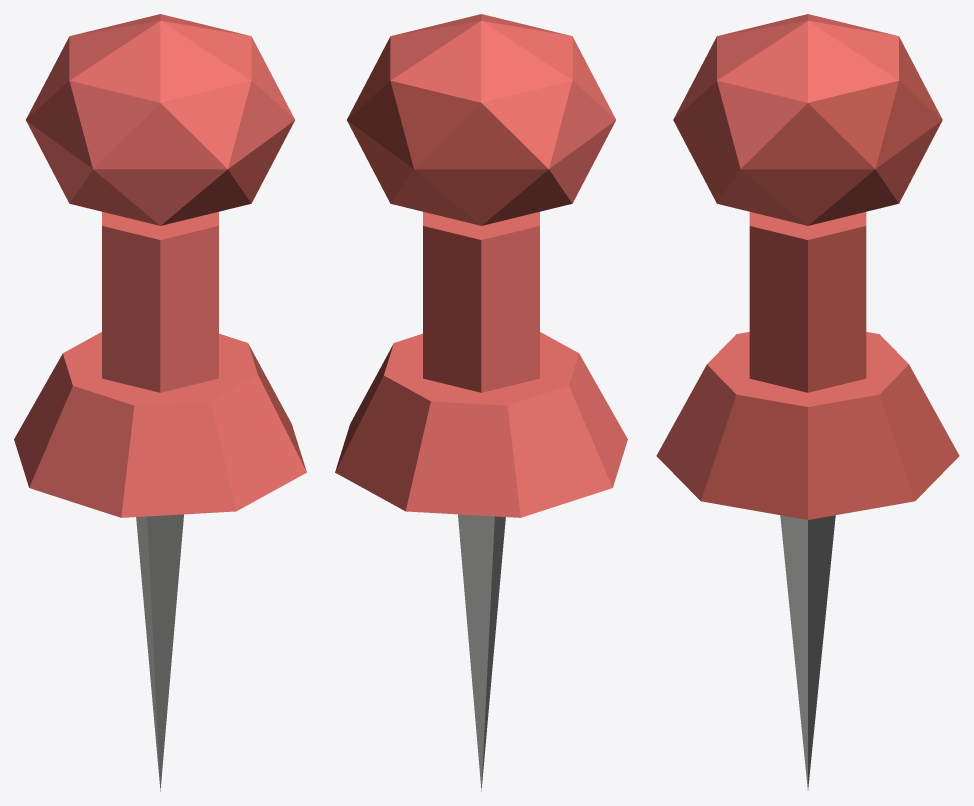
File: marker_pin.glb
3 views of the same model, side by side, from view 1: azimuth 30°, elevation 25°; view 2: azimuth 150°, elevation 25°; view 3: azimuth 270°, elevation 25° (orthographic).
Parts seen in each view (by area): view 1: pin; view 2: pin; view 3: pin.
Part boxes in pixels (x1,y1,x2,y2): pin: (14,14,306,791); pin: (335,14,627,791); pin: (656,14,959,789).
Size of the model in its own units: 0.018 by 0.0505 by 0.018.
